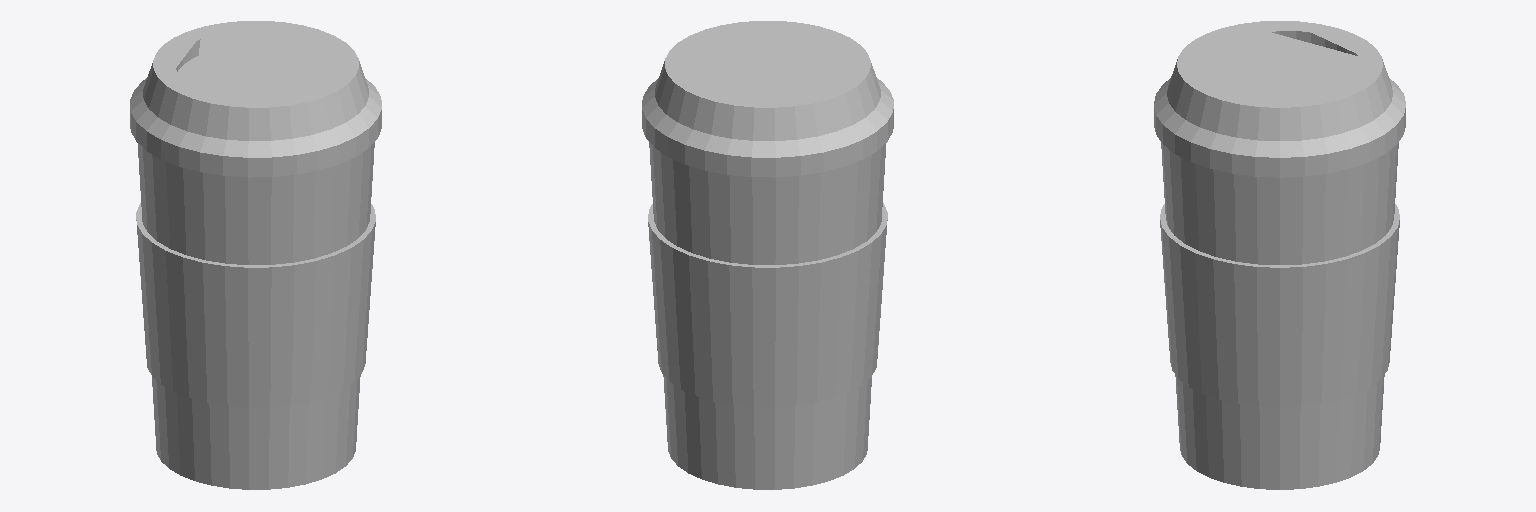
The model's file is togocup.obj.
The picture shows the model from 3 angles: view 1: azimuth 30°, elevation 25°; view 2: azimuth 150°, elevation 25°; view 3: azimuth 270°, elevation 25°; orthographic projection.
Parts seen in each view (by area): view 1: Cylinder, Cylinder.002, Cylinder.003; view 2: Cylinder, Cylinder.002, Cylinder.003; view 3: Cylinder, Cylinder.002, Cylinder.003.
Part boxes in pixels (left/top/right/bottom): Cylinder: left=138, top=142, right=374, bottom=489; Cylinder.002: left=136, top=203, right=375, bottom=407; Cylinder.003: left=130, top=21, right=381, bottom=177; Cylinder: left=649, top=142, right=885, bottom=489; Cylinder.002: left=648, top=203, right=887, bottom=407; Cylinder.003: left=642, top=21, right=893, bottom=177; Cylinder: left=1161, top=142, right=1398, bottom=489; Cylinder.002: left=1160, top=204, right=1399, bottom=407; Cylinder.003: left=1154, top=21, right=1405, bottom=177.
Size of the model in its own units: 2.1 by 3.52 by 2.1.